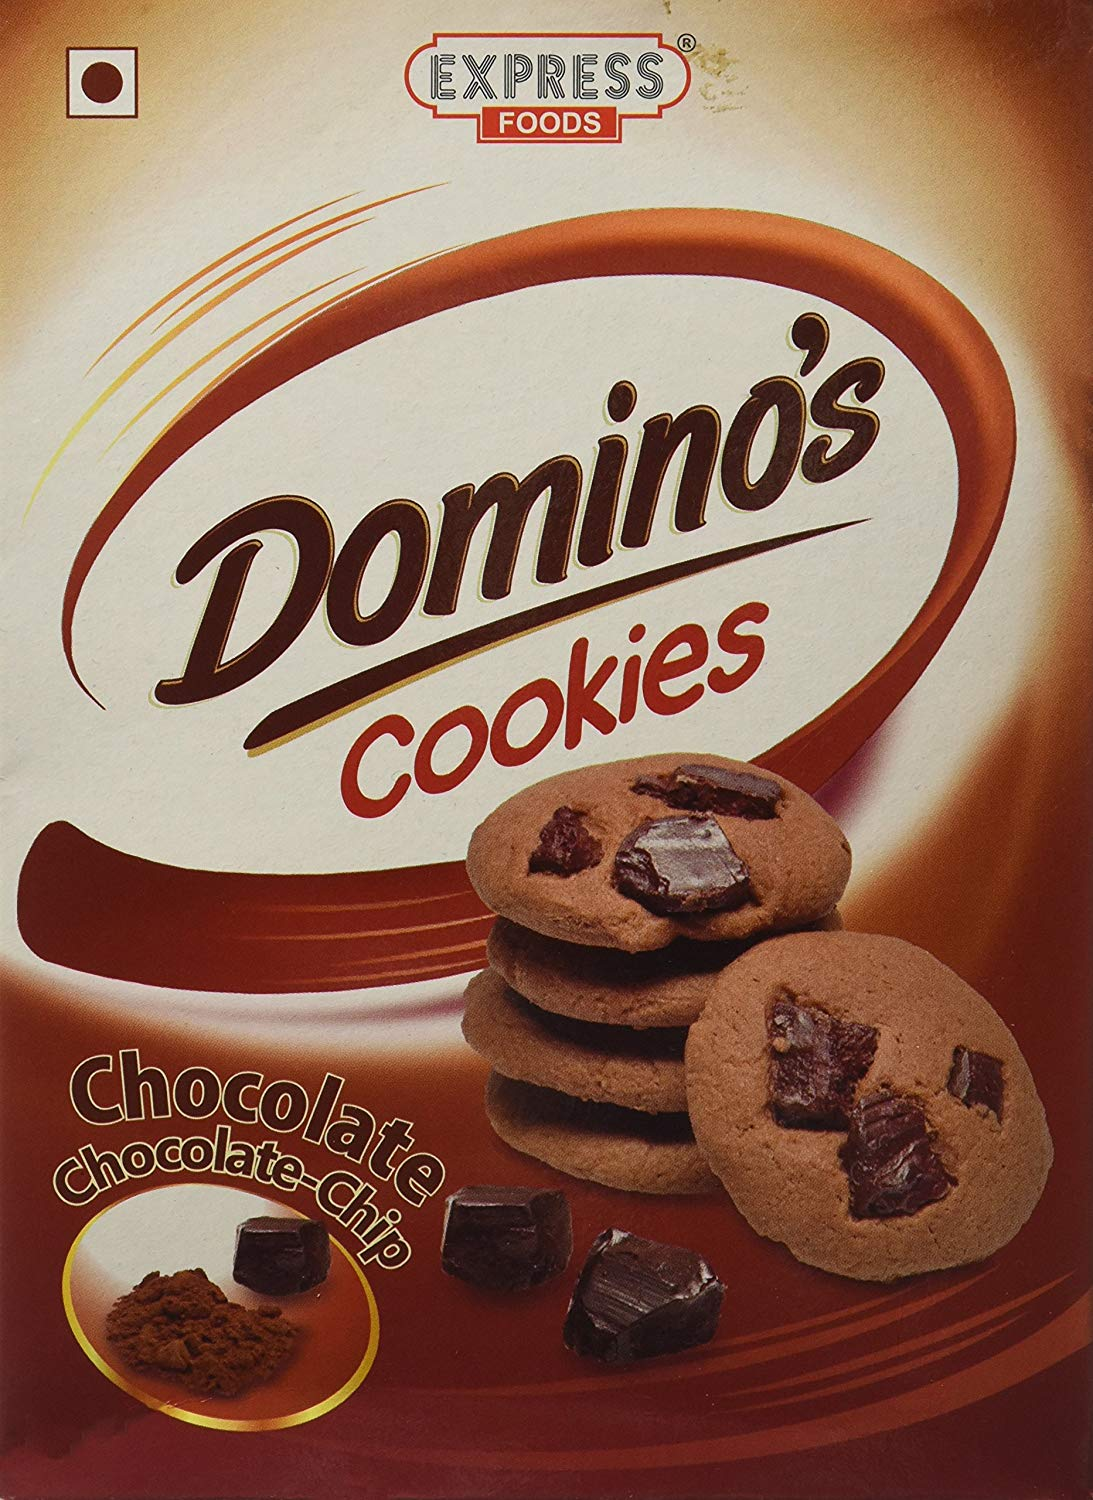nonveg_red: (64, 44, 142, 120)
